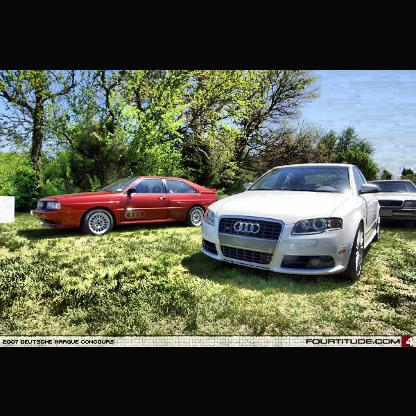Audi S4 Sedan 2007: (201, 165, 385, 282)
